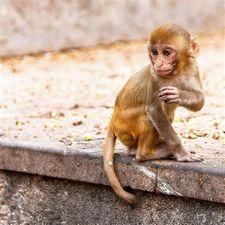monkey: (64, 17, 213, 200)
